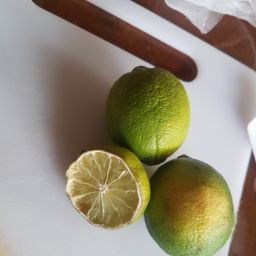Lemon: (40, 135, 239, 256), (142, 148, 239, 256), (92, 55, 194, 157), (55, 146, 153, 236)
